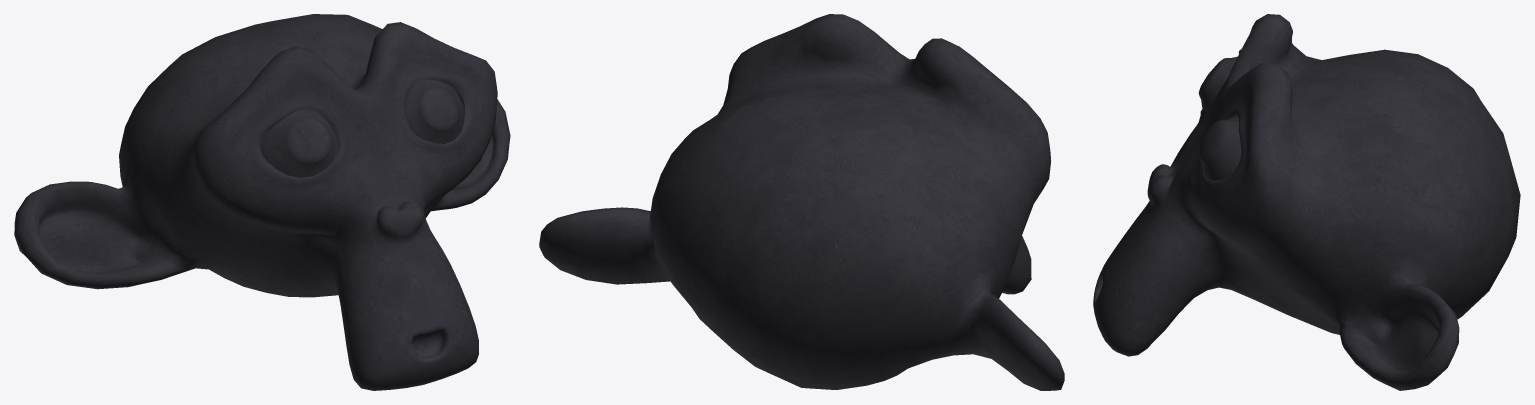
File: suzimatholder.glb
3 renders of one model, left to right at view 1: azimuth 30°, elevation 25°; view 2: azimuth 150°, elevation 25°; view 3: azimuth 270°, elevation 25°, orthographic. The views are drawn at different scales.
Parts seen in each view (by area): view 1: Suzanne; view 2: Suzanne; view 3: Suzanne.
Boxes of the visible parts, left/top/right/bottom form: Suzanne: left=14, top=14, right=510, bottom=390; Suzanne: left=539, top=14, right=1064, bottom=390; Suzanne: left=1093, top=14, right=1520, bottom=390.
Bounding box in the file's own units: 2.65 × 1.51 × 1.99.
Materials: 3 (3 with a texture image).
